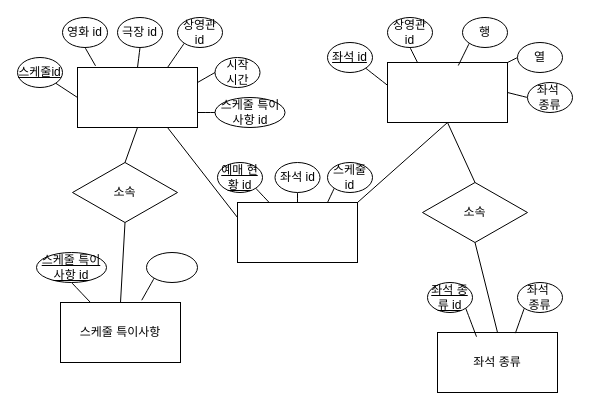
Image size: 590x410. Some labels were removed from this diagram. The centre of each missing label's shape, as x and y in pixels:
스케줄: the point at 137,97
예매 현황: the point at 297,232
좌석: the point at 447,92
특이사항 내용: the point at 172,267
